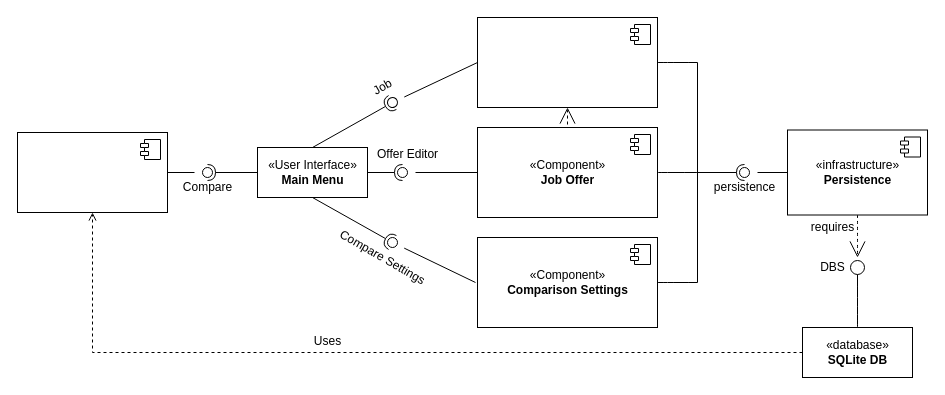
This 945x395 diagram has some shape labels left out. Each missing label, with the box of its shape:
«Component» Comparison: (16, 132, 168, 212)
«Component» Current Job: (476, 16, 658, 108)
